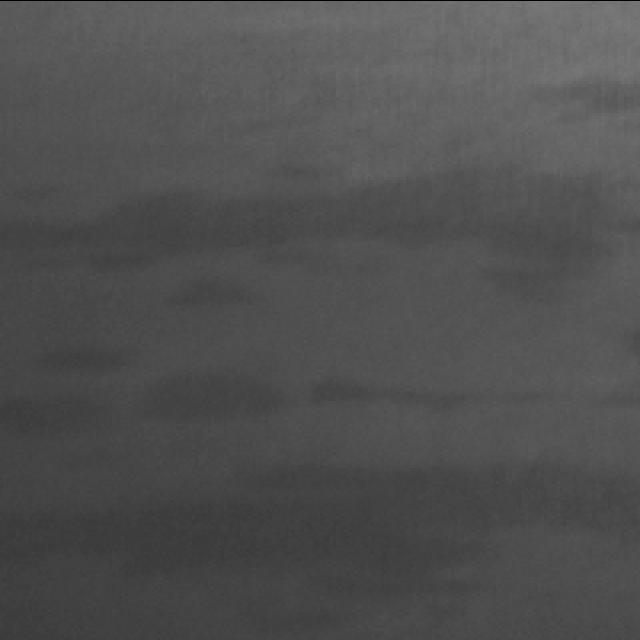inclusion: (0, 148, 640, 278), (0, 328, 640, 451), (0, 467, 640, 578)
